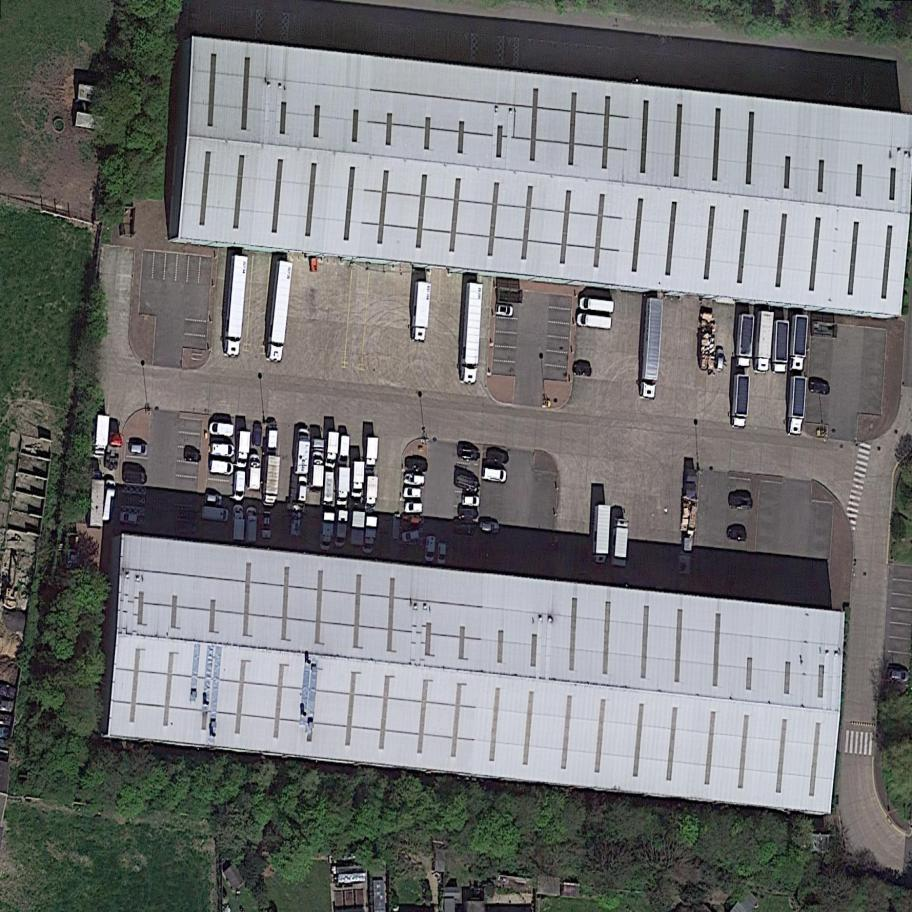large-vehicle: (265, 259, 294, 365), (638, 296, 667, 401), (221, 254, 250, 357), (459, 281, 485, 386), (410, 280, 434, 344), (753, 309, 775, 376), (87, 468, 109, 530), (592, 503, 613, 567), (788, 313, 810, 374), (787, 376, 808, 438), (734, 313, 756, 370), (259, 454, 281, 510), (609, 516, 632, 569), (730, 373, 751, 430), (770, 319, 789, 375), (293, 426, 313, 476), (92, 413, 111, 460), (103, 431, 124, 472), (335, 466, 354, 508), (578, 296, 616, 316), (309, 449, 327, 491), (319, 511, 337, 552), (333, 508, 350, 551), (324, 428, 340, 471), (362, 515, 379, 555), (575, 313, 612, 331), (235, 430, 252, 468), (231, 503, 247, 543), (365, 436, 380, 476), (364, 475, 379, 515), (244, 506, 259, 545), (351, 461, 365, 502), (247, 452, 262, 490), (321, 470, 336, 508), (265, 418, 279, 455), (201, 507, 230, 523)
small-vehicle: (451, 470, 485, 497), (402, 456, 429, 474), (456, 446, 483, 463), (481, 467, 508, 484), (208, 442, 236, 458), (209, 460, 235, 477), (451, 522, 478, 538), (485, 449, 510, 466), (209, 422, 235, 438), (234, 470, 247, 502), (338, 434, 351, 465), (122, 470, 148, 485), (296, 475, 309, 504), (730, 495, 753, 511), (424, 535, 437, 563), (887, 668, 910, 683), (175, 521, 198, 536), (808, 381, 830, 396), (176, 506, 198, 521), (478, 520, 500, 535), (126, 442, 149, 456), (400, 528, 420, 544), (726, 527, 747, 542), (251, 423, 263, 447), (437, 540, 448, 566), (403, 473, 425, 486), (183, 450, 203, 464), (457, 507, 478, 520), (205, 493, 223, 508), (573, 364, 592, 378), (461, 495, 481, 508), (495, 304, 514, 317), (119, 512, 138, 524), (403, 488, 422, 499), (404, 503, 423, 514), (716, 348, 724, 372)
